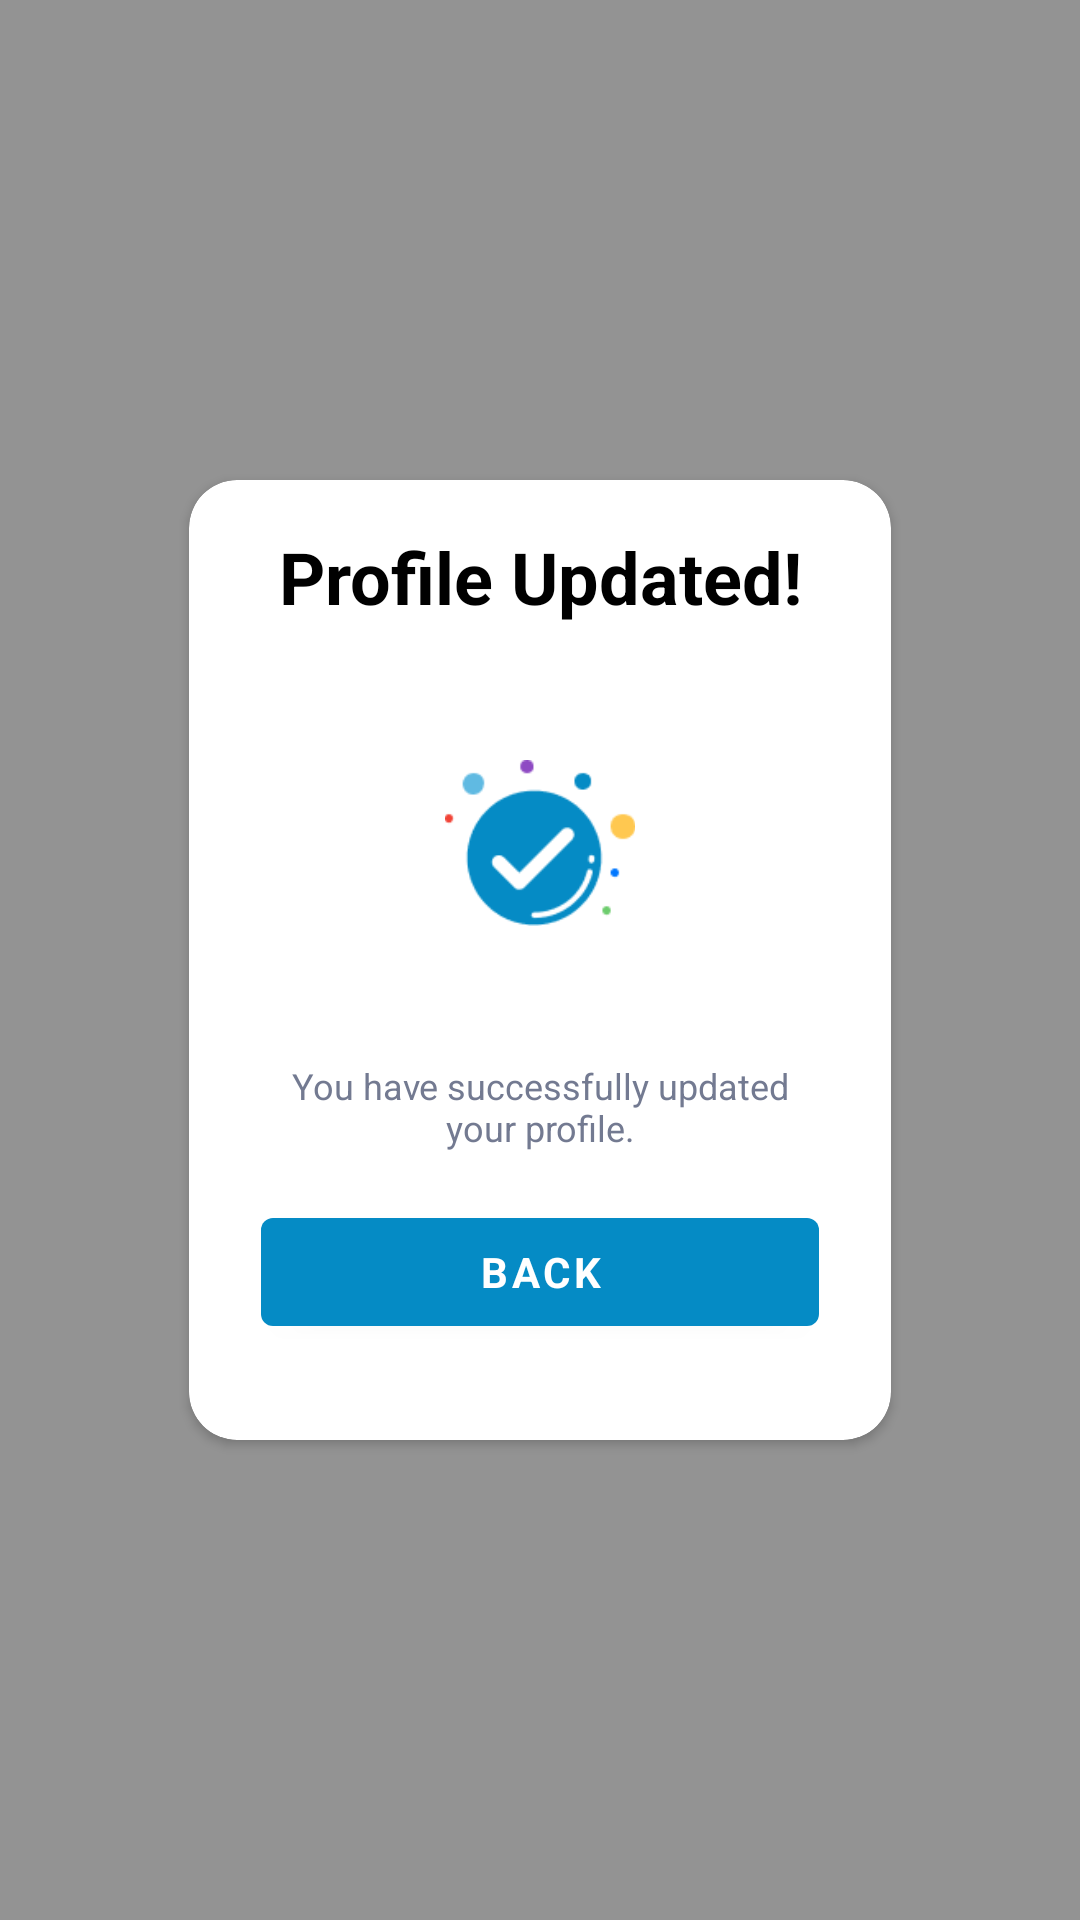

Named icons in this screenshot (1080x1920) and their centers, (x,y):
success bubble: (540,843)
